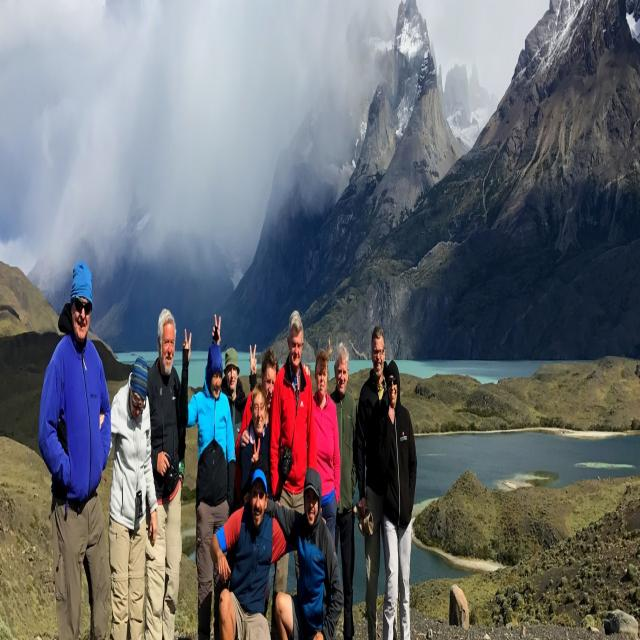body: (37, 255, 112, 639), (209, 460, 327, 639), (179, 326, 236, 639), (243, 467, 344, 640), (99, 356, 158, 640), (140, 306, 187, 639), (354, 323, 400, 639), (269, 310, 316, 595), (374, 356, 418, 639), (233, 348, 310, 503), (325, 341, 363, 639), (306, 346, 340, 547), (211, 313, 257, 426), (239, 381, 273, 502)
